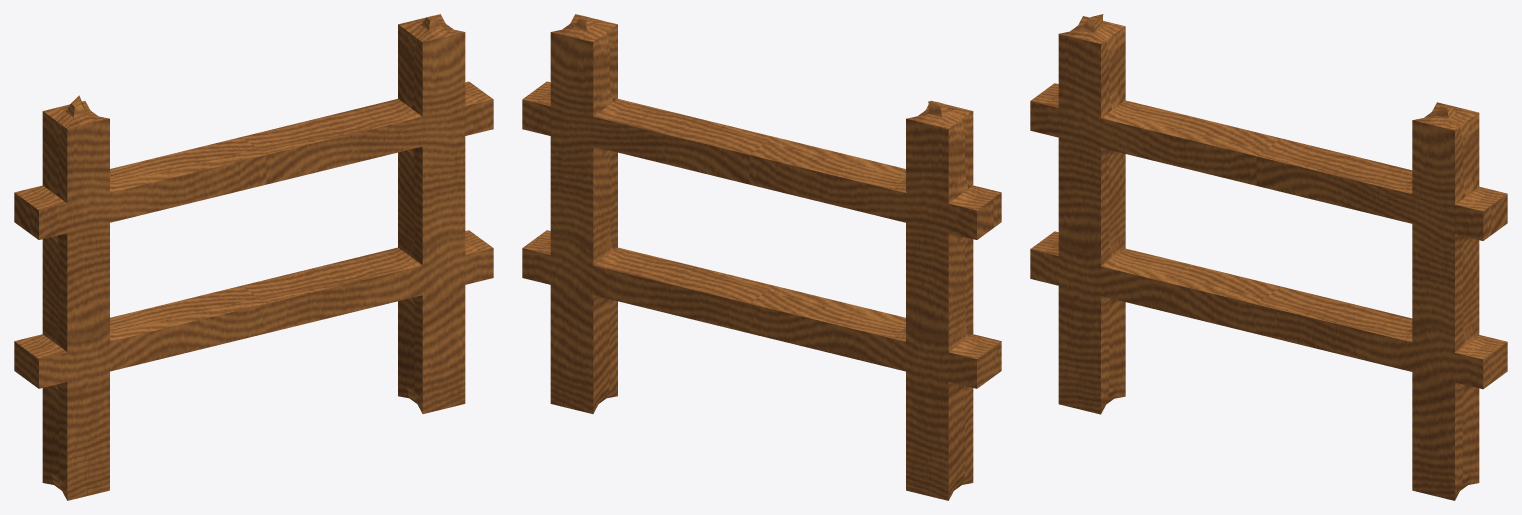
File: prop_fence_rail.glb
3 renders of one model, left to right at view 1: azimuth 30°, elevation 25°; view 2: azimuth 150°, elevation 25°; view 3: azimuth 330°, elevation 25°, orthographic.
Parts seen in each view (by area): view 1: town_prop_fence_rail; view 2: town_prop_fence_rail; view 3: town_prop_fence_rail.
Part boxes in pixels (left/top/right/bottom): town_prop_fence_rail: left=14, top=14, right=493, bottom=500; town_prop_fence_rail: left=522, top=14, right=1001, bottom=500; town_prop_fence_rail: left=1030, top=14, right=1507, bottom=500.
Bounding box in the file's own units: 1 × 0.8125 × 0.0938.
1 material, 1 textured.
